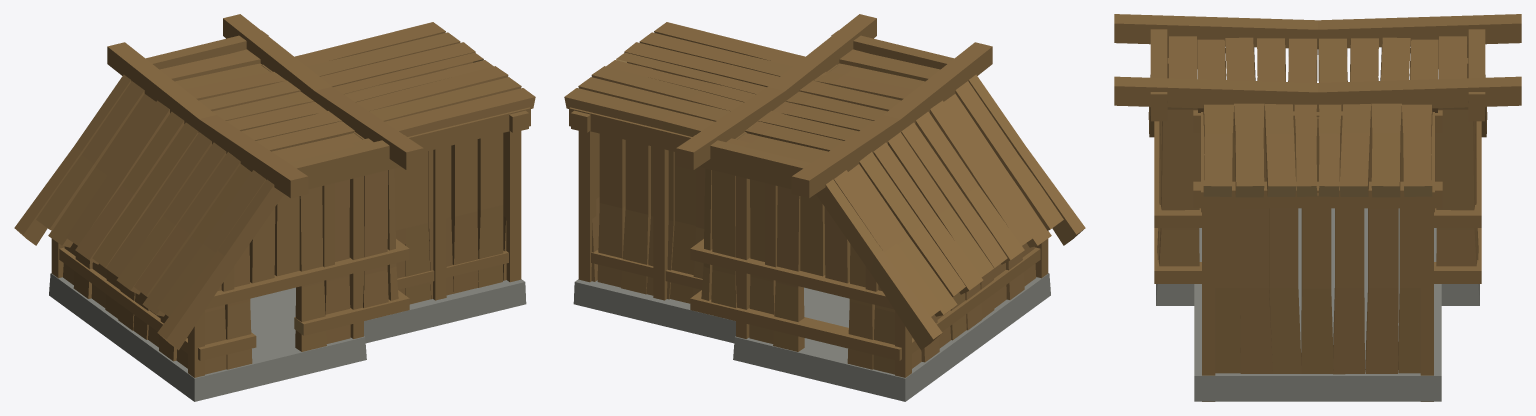
The model's file is Hut-wxi3kAu5ey.glb.
3 views of the same model, side by side, from view 1: azimuth 30°, elevation 25°; view 2: azimuth 150°, elevation 25°; view 3: azimuth 270°, elevation 25° (orthographic). The views are drawn at different scales.
Visible parts, largest first — view 1: Hut-wxi3kAu5ey; view 2: Hut-wxi3kAu5ey; view 3: Hut-wxi3kAu5ey.
Part boxes in pixels (x1,y1,x2,y2): Hut-wxi3kAu5ey: [14, 14, 535, 401]; Hut-wxi3kAu5ey: [564, 14, 1085, 401]; Hut-wxi3kAu5ey: [1114, 14, 1521, 401].
Size of the model in its own units: 1.46 by 0.7685 by 1.17.
